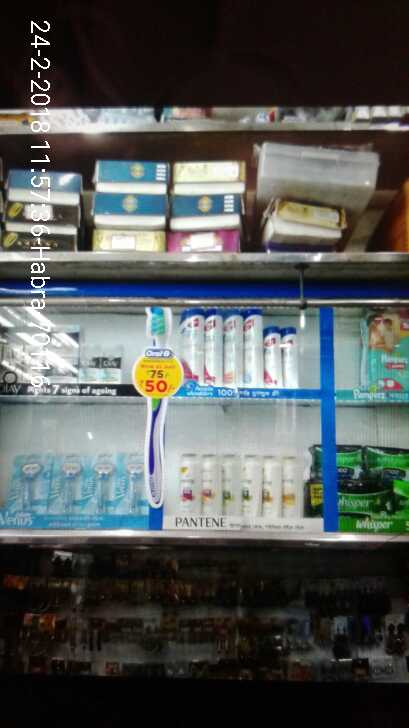venus: (15, 457, 50, 514), (90, 456, 122, 513), (57, 456, 90, 506), (122, 457, 145, 513)
